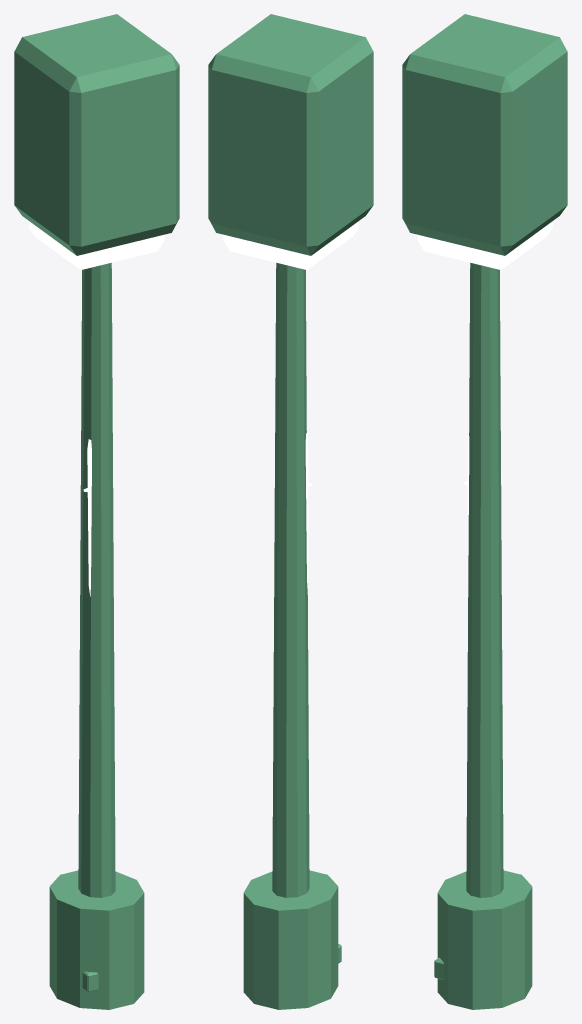
The model's file is b18_acorn_globe_park_lamp.glb.
The picture shows the model from 3 angles, left to right: view 1: azimuth 30°, elevation 25°; view 2: azimuth 150°, elevation 25°; view 3: azimuth 330°, elevation 25°; orthographic projection.
Parts seen in each view (by area): view 1: b18_acorn_globe_park_lamp; view 2: b18_acorn_globe_park_lamp; view 3: b18_acorn_globe_park_lamp.
Part boxes in pixels (x1,y1,x2,y2): b18_acorn_globe_park_lamp: [14, 14, 179, 1009]; b18_acorn_globe_park_lamp: [208, 14, 373, 1009]; b18_acorn_globe_park_lamp: [402, 14, 567, 1009].
Bounding box in the file's own units: 0.505 × 4.12 × 0.505.
